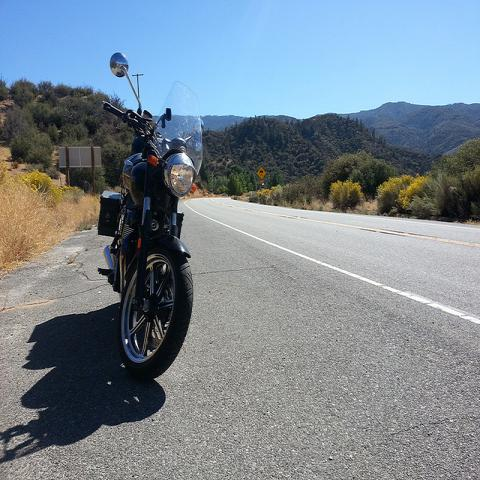motorcycle: (94, 53, 201, 383)
